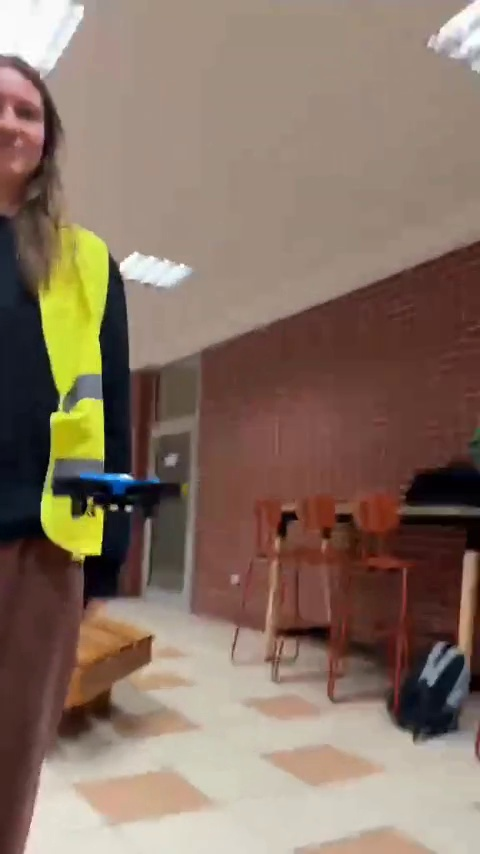drone: (54, 470, 195, 523)
vest: (0, 66, 143, 853)
